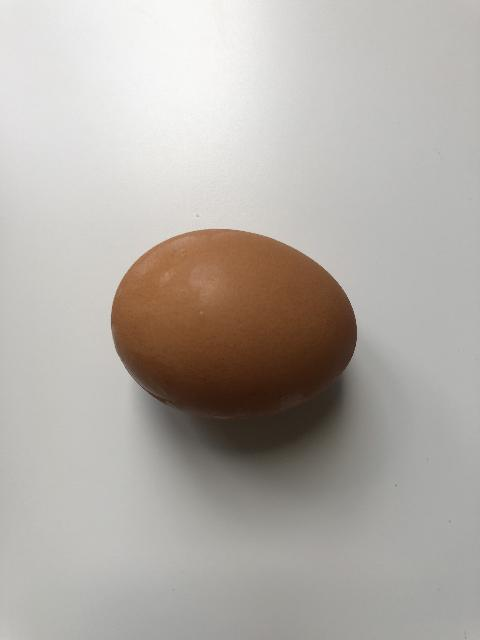Sano: (110, 227, 358, 421)
